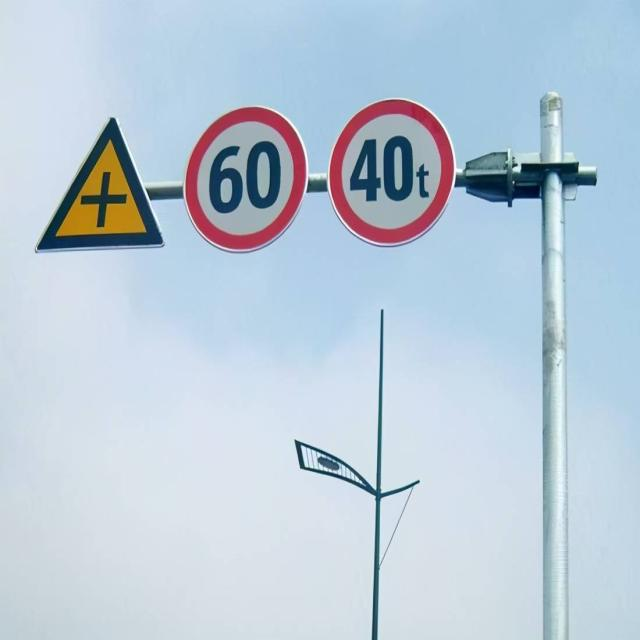speed limit 60: (183, 105, 309, 253)
